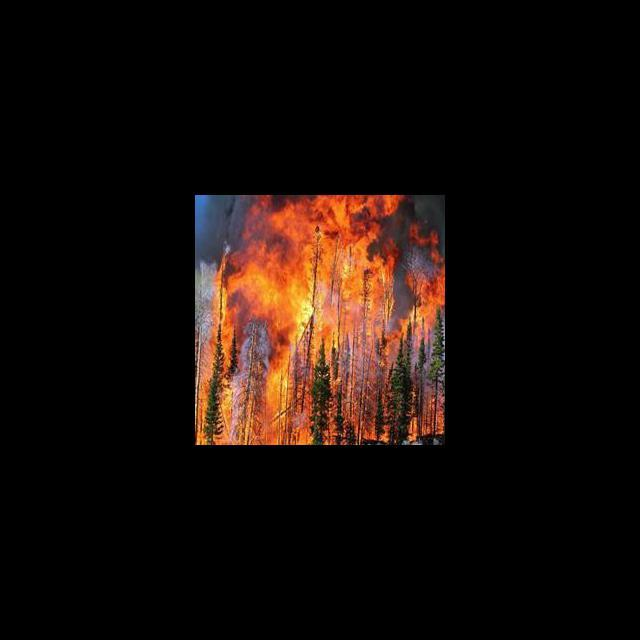Fire: (196, 195, 442, 444)
